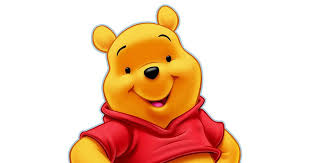Winnie: (85, 6, 219, 142)
